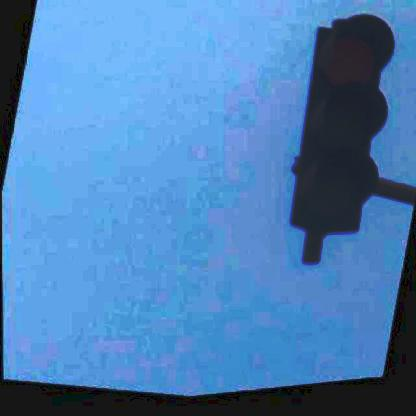Traffic Light -Red-: (278, 11, 407, 251)
